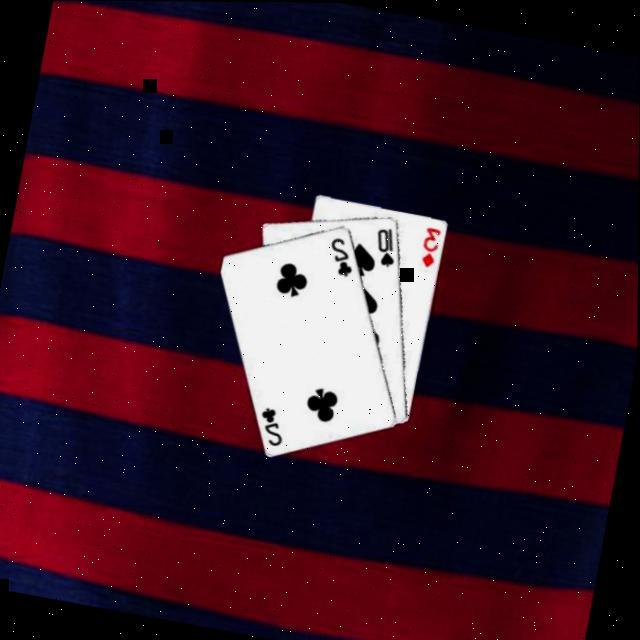10S: (366, 222, 399, 270)
2C: (321, 232, 358, 280), (251, 402, 288, 450)
3D: (414, 223, 442, 271)
